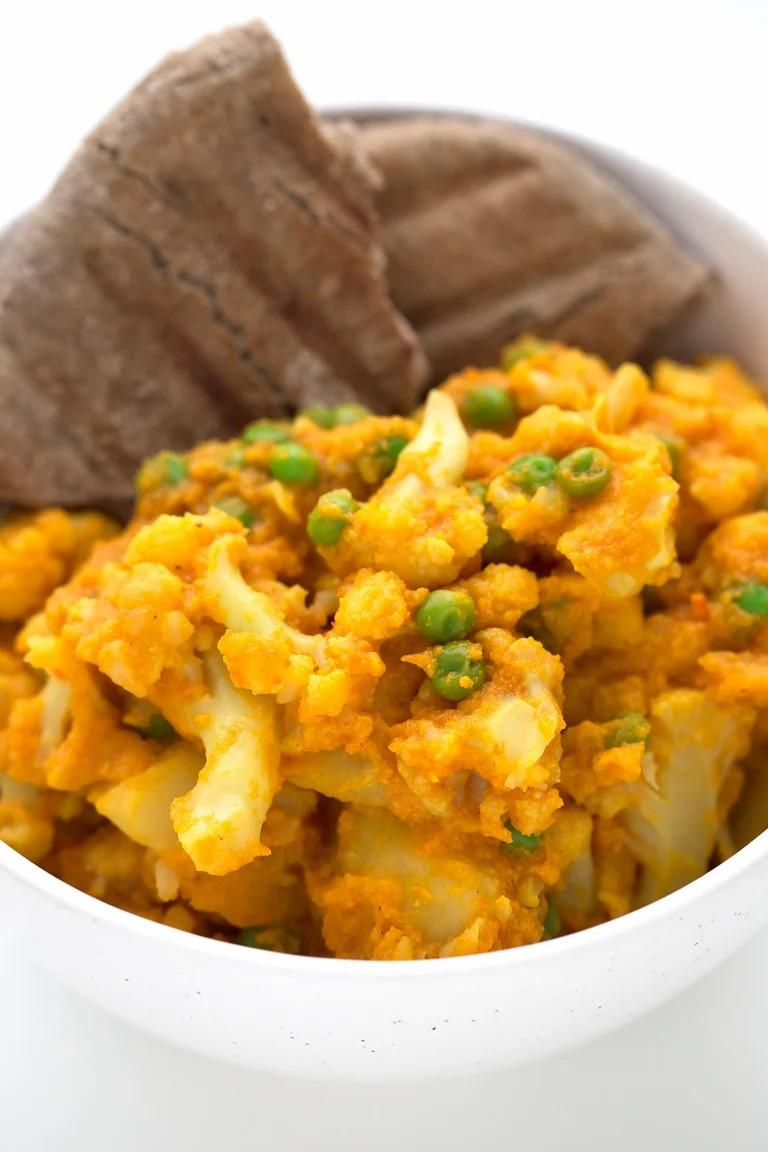AlooGobi: (1, 333, 768, 962)
